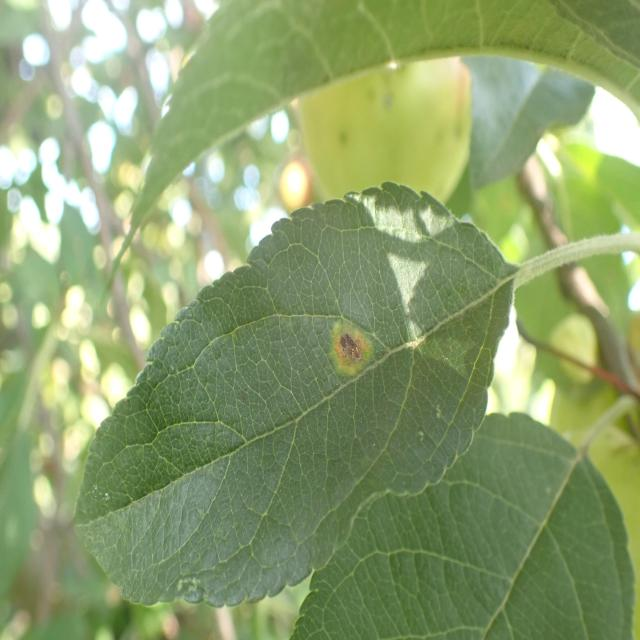rust: (73, 181, 517, 609)
